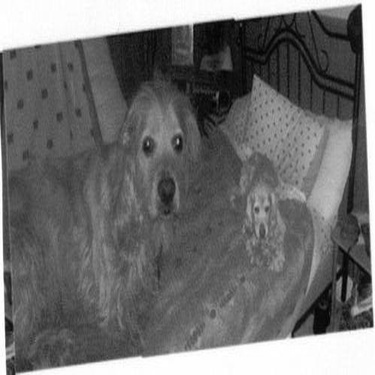dog: (1, 62, 205, 330), (224, 145, 294, 273)
